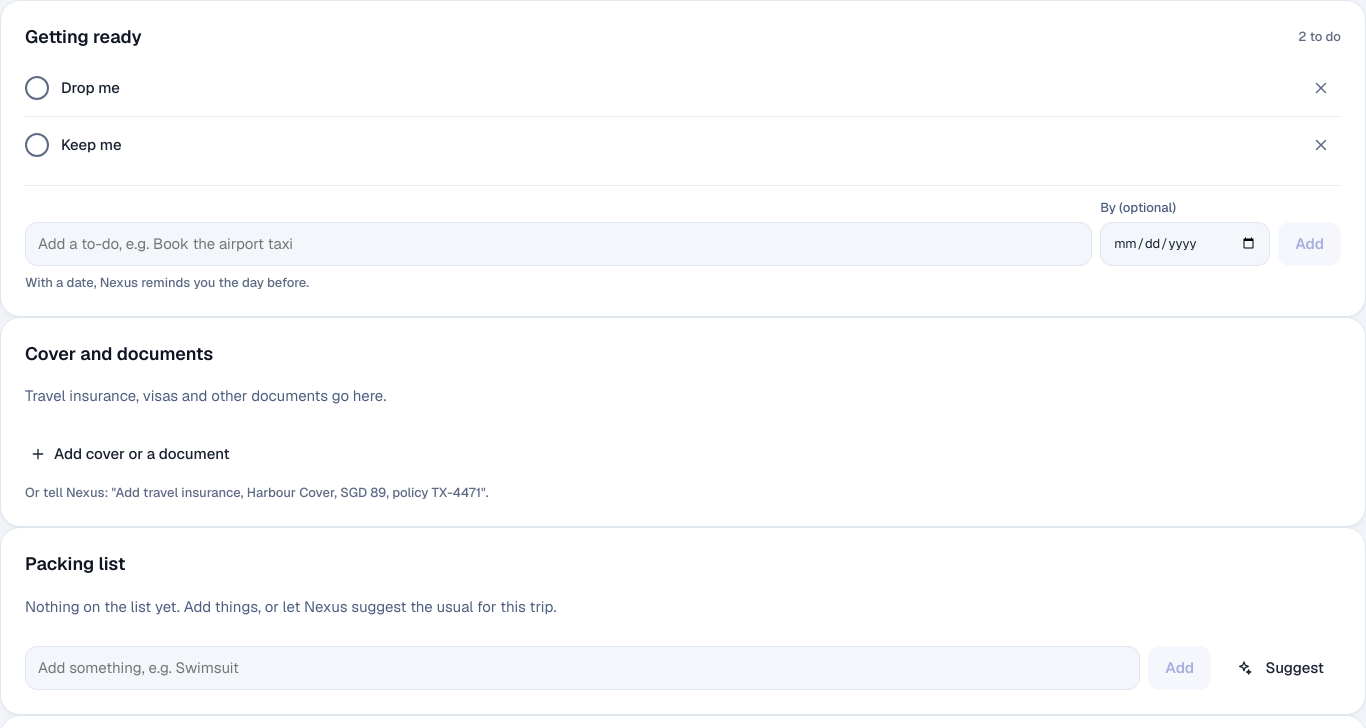
Test: Getting ready › removes a to-do from the list
Click the button named "Remove Drop me" at (1321, 88), box [1301,68,1341,108]
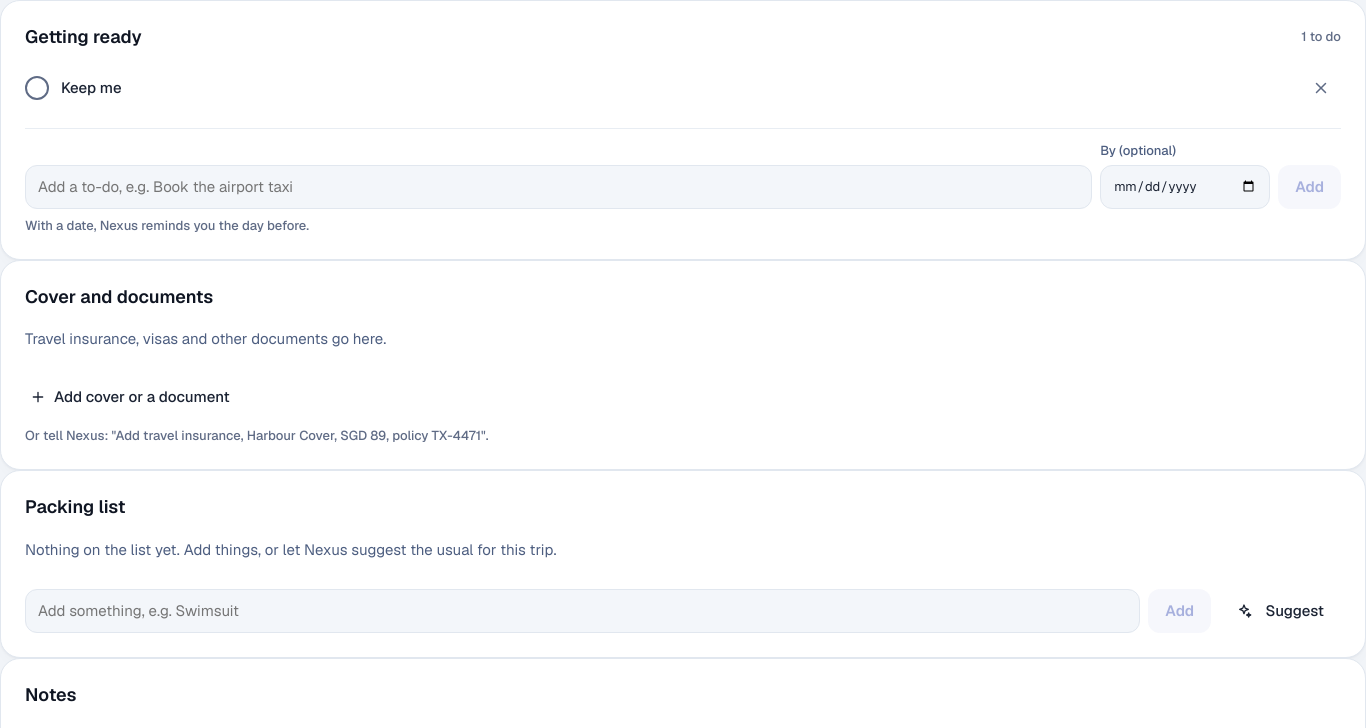
Result: the text "Drop me" is gone
